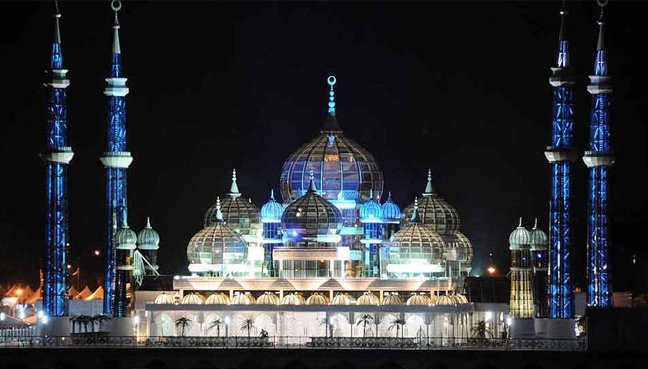Mosque: (27, 2, 621, 323)
